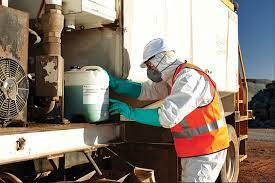Helmet: (138, 41, 174, 65)
Jacket: (164, 82, 236, 156)
Mask: (141, 68, 170, 85)
gloves: (110, 97, 162, 131), (110, 75, 148, 99)
